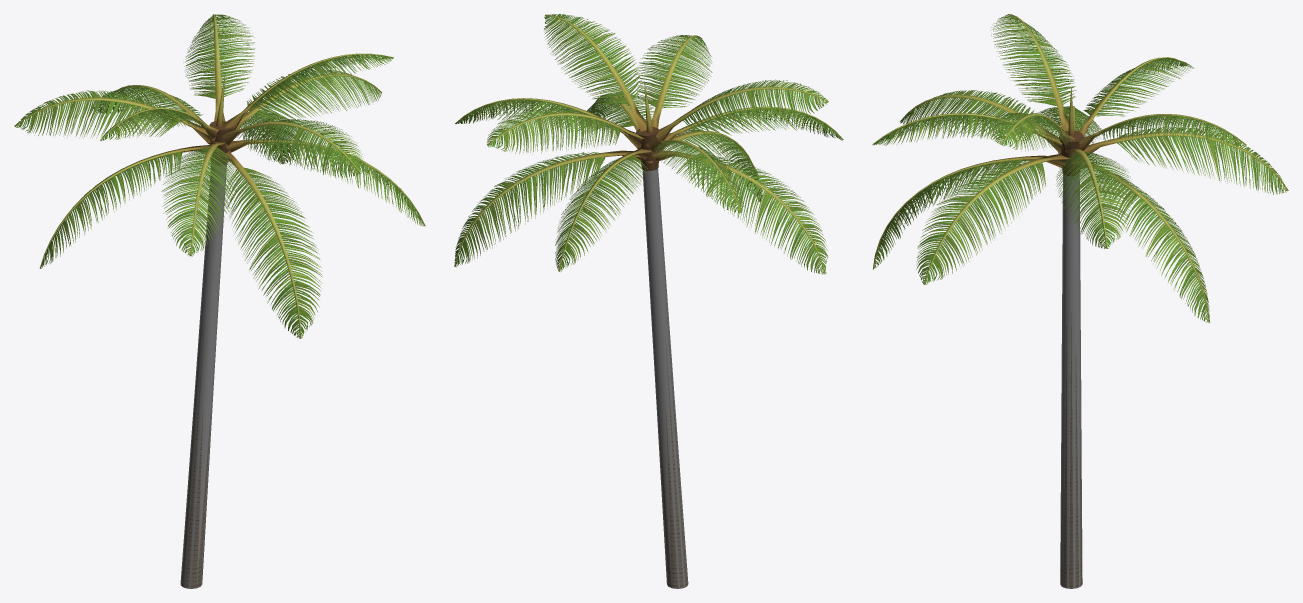
File: f_kelapa_pohon.glb
The picture shows the model from 3 angles, left to right: view 1: azimuth 30°, elevation 25°; view 2: azimuth 150°, elevation 25°; view 3: azimuth 270°, elevation 25°; orthographic projection. The views are drawn at different scales.
Parts seen in each view (by area): view 1: daun, col_batang, pelepah, batang; view 2: daun, pelepah, col_batang, batang, serabut_pucuk; view 3: daun, col_batang, pelepah, batang.
Boxes of the visible parts, x1=… form: daun: x1=15, y1=14, x2=424, y2=338; col_batang: x1=180, y1=164, x2=226, y2=588; pelepah: x1=14, y1=14, x2=425, y2=338; batang: x1=180, y1=294, x2=217, y2=588; daun: x1=454, y1=14, x2=842, y2=274; pelepah: x1=454, y1=14, x2=843, y2=273; col_batang: x1=642, y1=169, x2=687, y2=588; batang: x1=652, y1=299, x2=688, y2=588; serabut_pucuk: x1=636, y1=127, x2=659, y2=170; daun: x1=873, y1=14, x2=1287, y2=322; col_batang: x1=1060, y1=173, x2=1082, y2=588; pelepah: x1=872, y1=14, x2=1288, y2=322; batang: x1=1060, y1=312, x2=1082, y2=588.
Size of the model in its own units: 7.24 by 9.95 by 7.09.
Materials: 5 (4 with a texture image).
